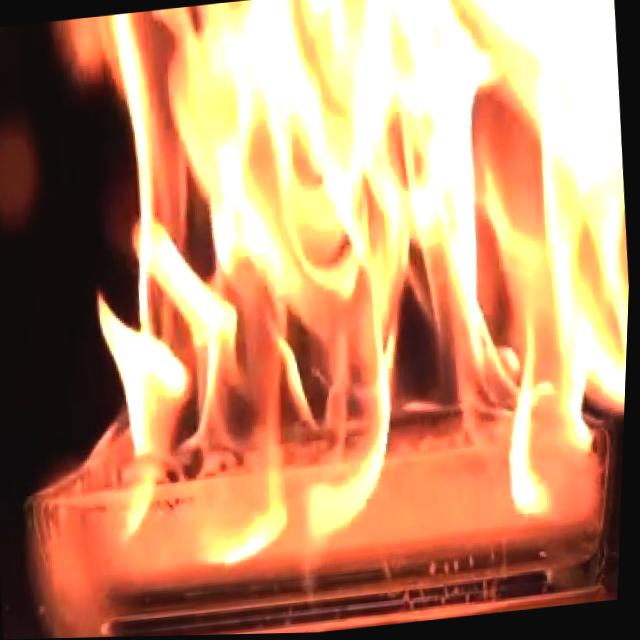Fire: (43, 0, 626, 559)
